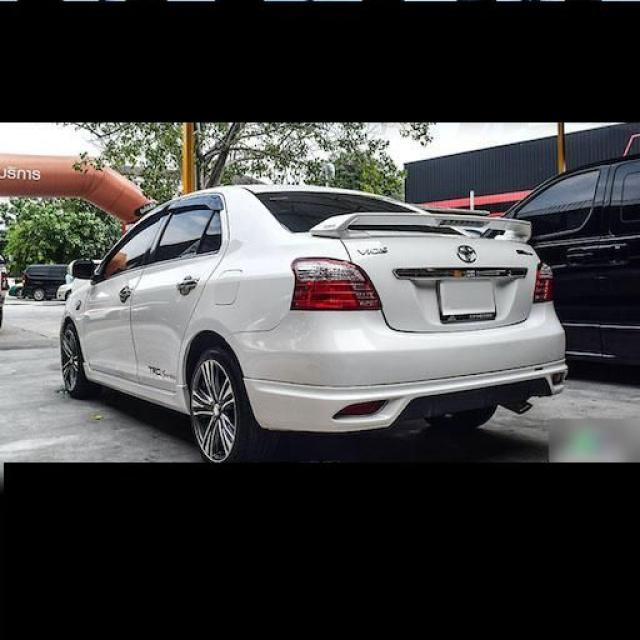back_bumper: (226, 303, 568, 432)
back_glass: (256, 193, 423, 233)
back_left_door: (132, 193, 230, 391)
back_left_light: (288, 257, 554, 311)
front_left_door: (85, 199, 178, 382)
left_mirror: (68, 258, 94, 280)
tailgate: (340, 239, 539, 333)
wheel: (190, 346, 263, 463), (61, 322, 101, 398)
